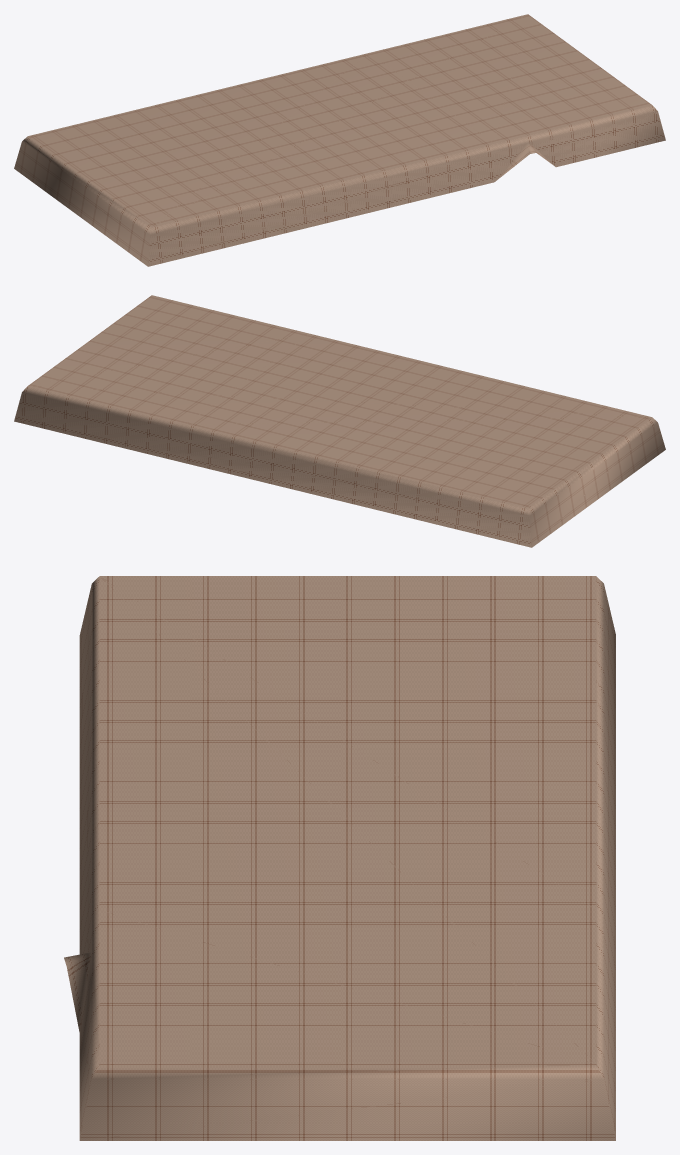
File: kd_stage_135ded_4_77_exterior.glb
3 views of the same model, one above another, from view 1: azimuth 30°, elevation 25°; view 2: azimuth 150°, elevation 25°; view 3: azimuth 270°, elevation 25° (orthographic). The views are drawn at different scales.
Visible parts, largest first — view 1: kd_stage_135ded_4_77_exterior; view 2: kd_stage_135ded_4_77_exterior; view 3: kd_stage_135ded_4_77_exterior.
Part boxes in pixels (<box>): kd_stage_135ded_4_77_exterior: <box>14,14,665,266</box>; kd_stage_135ded_4_77_exterior: <box>14,295,665,547</box>; kd_stage_135ded_4_77_exterior: <box>64,576,615,1140</box>.
Bounding box in the file's own units: 2.65 × 0.1659 × 1.22.
Materials: 1 (1 with a texture image).
